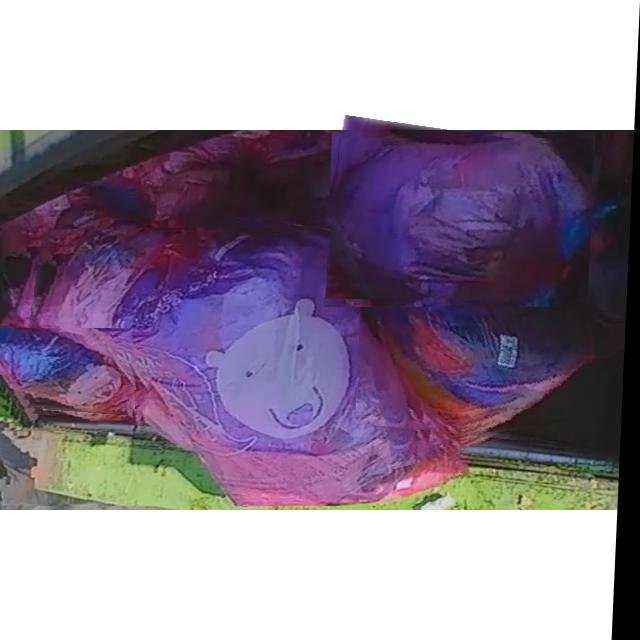other_trashbag: (28, 225, 464, 506), (334, 138, 592, 306), (363, 267, 594, 438), (0, 328, 138, 414)
